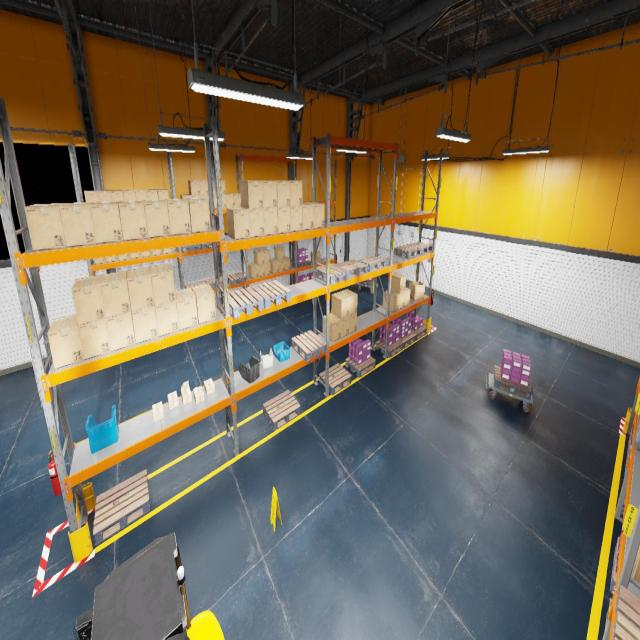box: (47, 314, 84, 369), (24, 203, 66, 251), (72, 274, 105, 325), (59, 202, 96, 247), (100, 270, 131, 318), (90, 201, 123, 243), (78, 318, 111, 359), (118, 200, 148, 240), (127, 267, 154, 311), (149, 263, 176, 305), (106, 312, 135, 351), (143, 199, 170, 238), (164, 198, 192, 234), (192, 283, 216, 324), (175, 288, 198, 330), (132, 306, 158, 343), (184, 198, 210, 232), (155, 301, 179, 336), (227, 207, 250, 239), (240, 180, 264, 209), (331, 291, 350, 319), (323, 313, 341, 342), (304, 202, 324, 228), (249, 209, 265, 237), (340, 289, 357, 315), (263, 180, 277, 208), (264, 207, 278, 235), (383, 290, 399, 312), (277, 180, 290, 207), (390, 272, 406, 293), (302, 203, 314, 230), (278, 206, 290, 233), (632, 544, 640, 583), (290, 180, 302, 206), (408, 281, 424, 300), (290, 206, 302, 231), (181, 380, 192, 405), (152, 402, 164, 422), (167, 390, 179, 410), (392, 290, 404, 309), (193, 386, 204, 404), (203, 378, 214, 395), (84, 190, 99, 202), (188, 180, 200, 195), (349, 312, 357, 334), (341, 316, 349, 338), (248, 262, 258, 278), (98, 190, 111, 202), (270, 258, 279, 274), (111, 190, 124, 201), (260, 249, 270, 263), (254, 250, 264, 264), (231, 193, 241, 207), (274, 247, 284, 260), (123, 190, 136, 200), (275, 258, 284, 272), (310, 250, 320, 262), (156, 189, 168, 199), (135, 190, 147, 200), (226, 194, 234, 208), (200, 180, 208, 194), (201, 195, 209, 209), (404, 288, 410, 306), (146, 190, 158, 199), (94, 256, 107, 264), (264, 262, 271, 275), (284, 256, 290, 270), (258, 264, 265, 276), (107, 255, 119, 262), (119, 254, 131, 260), (221, 180, 226, 194), (163, 248, 174, 254), (142, 250, 153, 256), (131, 252, 142, 258), (153, 249, 163, 255), (222, 194, 226, 208), (180, 194, 192, 198), (214, 194, 217, 208), (212, 180, 215, 194)
forklift: (73, 532, 224, 640)
pallets: (93, 470, 150, 546), (612, 586, 640, 640), (263, 390, 300, 430), (222, 287, 264, 319), (494, 365, 531, 399), (251, 280, 291, 309), (291, 330, 327, 362), (319, 363, 352, 395), (316, 264, 349, 284), (345, 356, 376, 377), (334, 259, 368, 278), (610, 536, 620, 594), (376, 340, 403, 357), (358, 256, 386, 272), (394, 245, 422, 258), (407, 242, 433, 254), (205, 276, 228, 289), (399, 332, 416, 348), (227, 272, 246, 285), (411, 326, 427, 340), (604, 601, 611, 632), (624, 450, 630, 478), (181, 244, 201, 252), (185, 281, 206, 288), (627, 428, 632, 457), (201, 242, 218, 250), (292, 260, 310, 267), (359, 279, 374, 286), (636, 423, 640, 442), (621, 499, 625, 516), (222, 314, 225, 318)
